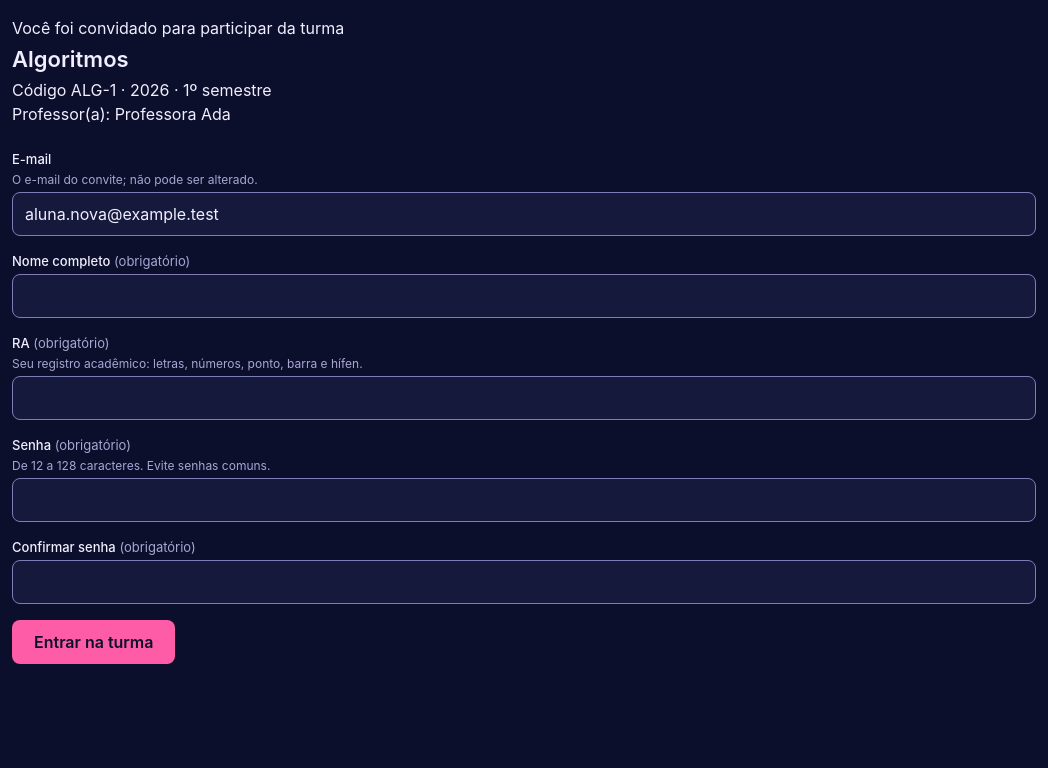
Test: 003/US3-1 003/US3-2 003/US3-4 003/US3-5 ClassInvitationPage — aluno novo (FR-030–FR-036) › mostra turma, professor e e-mail só leitura; conclui, mostra "Você agora faz parte da turma." e leva a Minhas turmas (FR-038); 022/US2-1 recarrega o layout raiz
Expected: the heading "Algoritmos" is shown, [12,46,129,72]
Expected: the text "Professor(a): Professora Ada" is shown, [12,104,231,124]
Type "Aluna Nova" into the field labelled "Nome completo (obrigatório)" at {"x": 524, "y": 296}, box [12,274,1036,318]
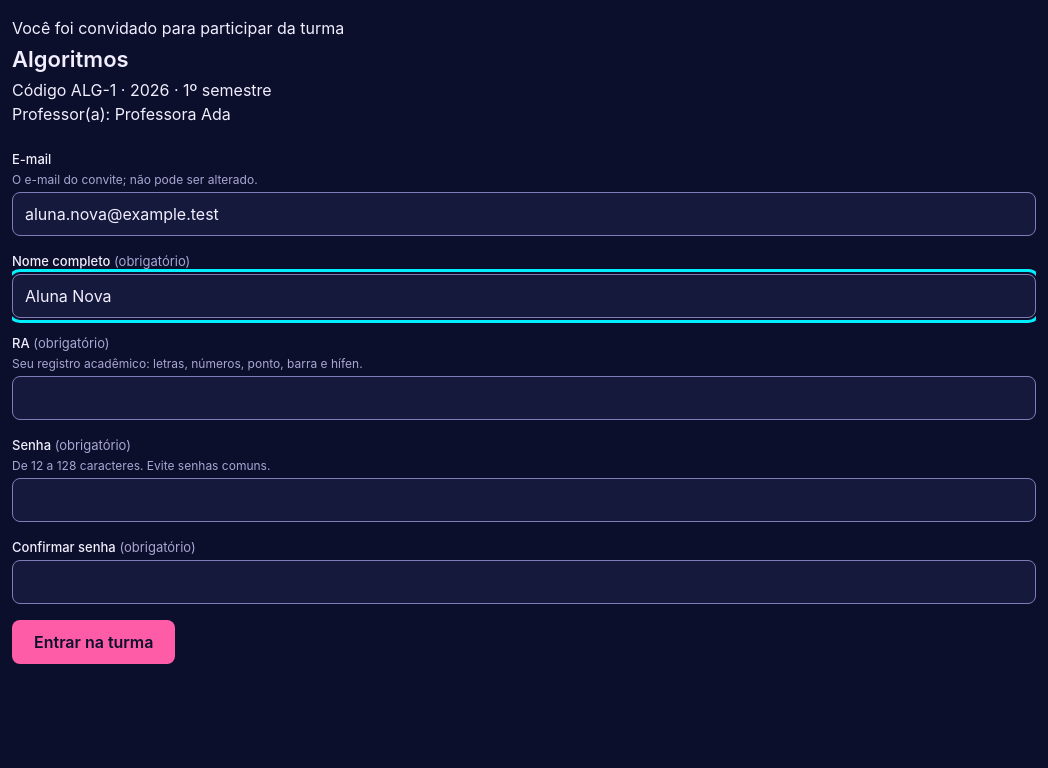
Type "RA-2026.001" into the field labelled "RA (obrigatório)" at {"x": 524, "y": 398}, box [12,376,1036,420]
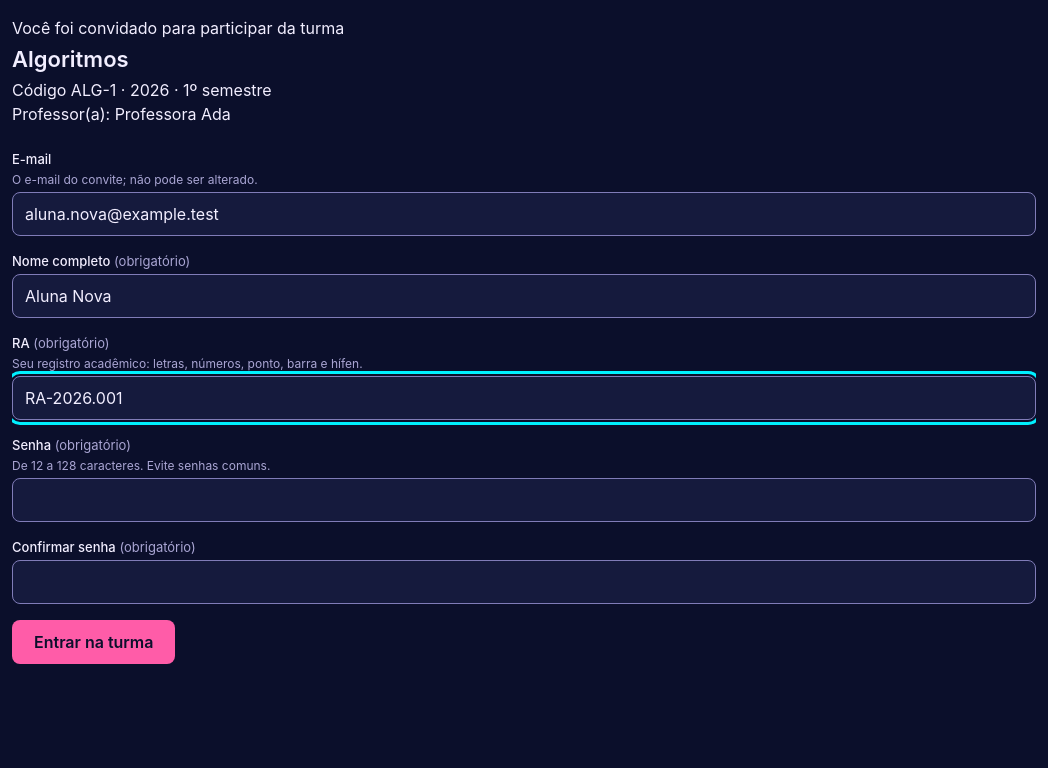
Type "girassol-azul-de-outono" into the password field labelled "Senha (obrigatório)" at {"x": 524, "y": 500}, box [12,478,1036,522]
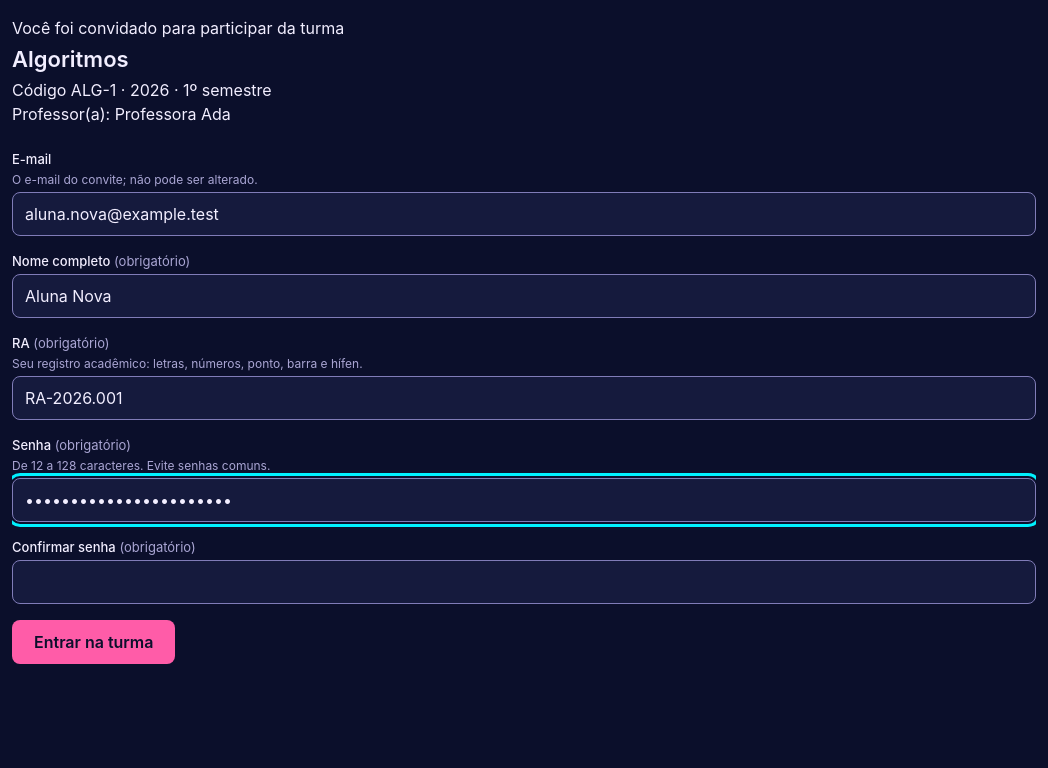
Type "girassol-azul-de-outono" into the password field labelled "Confirmar senha (obrigatório)" at {"x": 524, "y": 582}, box [12,560,1036,604]
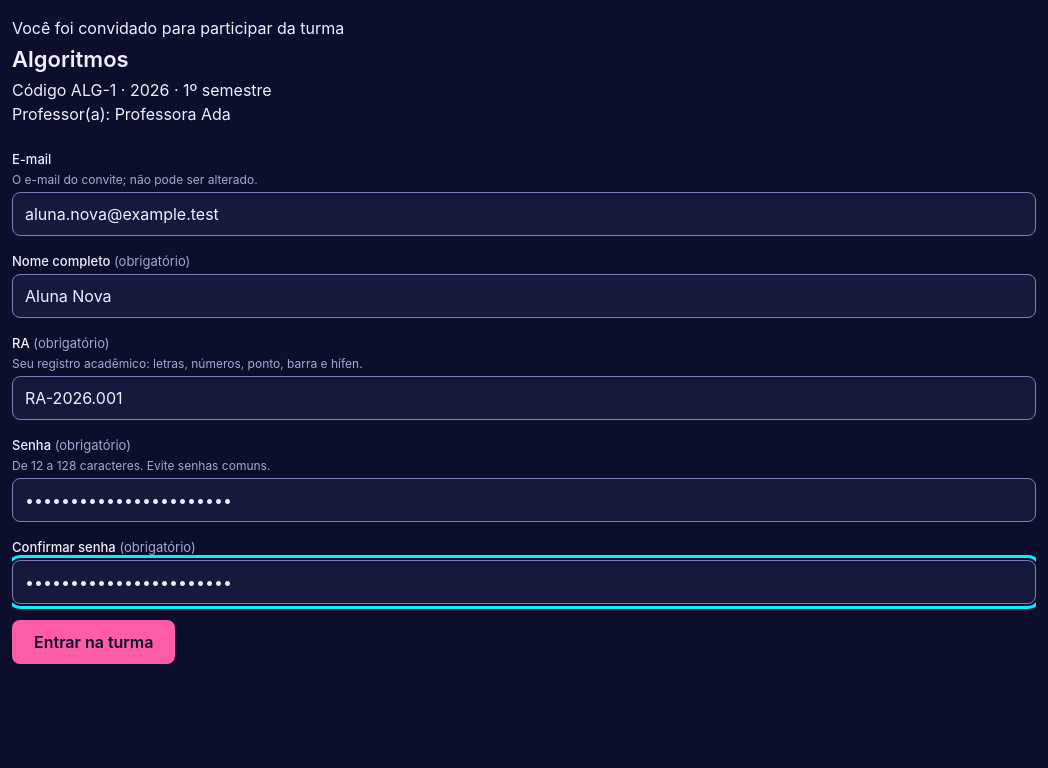
Click the button "Entrar na turma" at {"x": 94, "y": 642}, box [12,620,176,664]
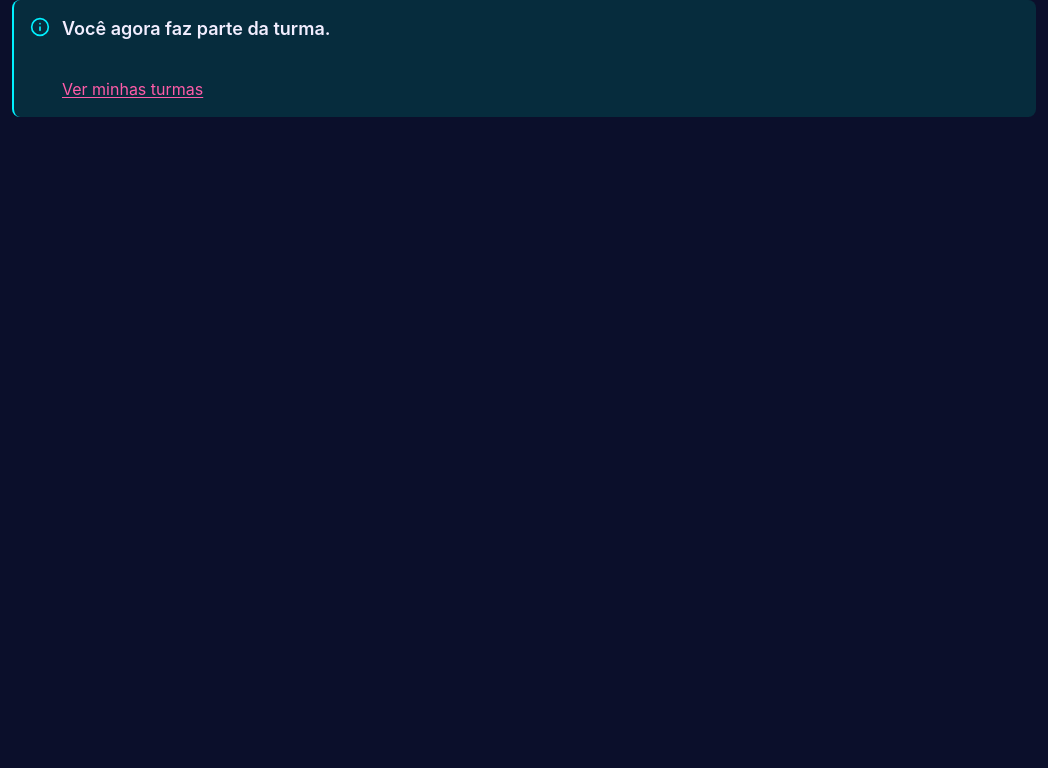
Now the heading "Você agora faz parte da turma." is shown, box [62,16,330,42]
